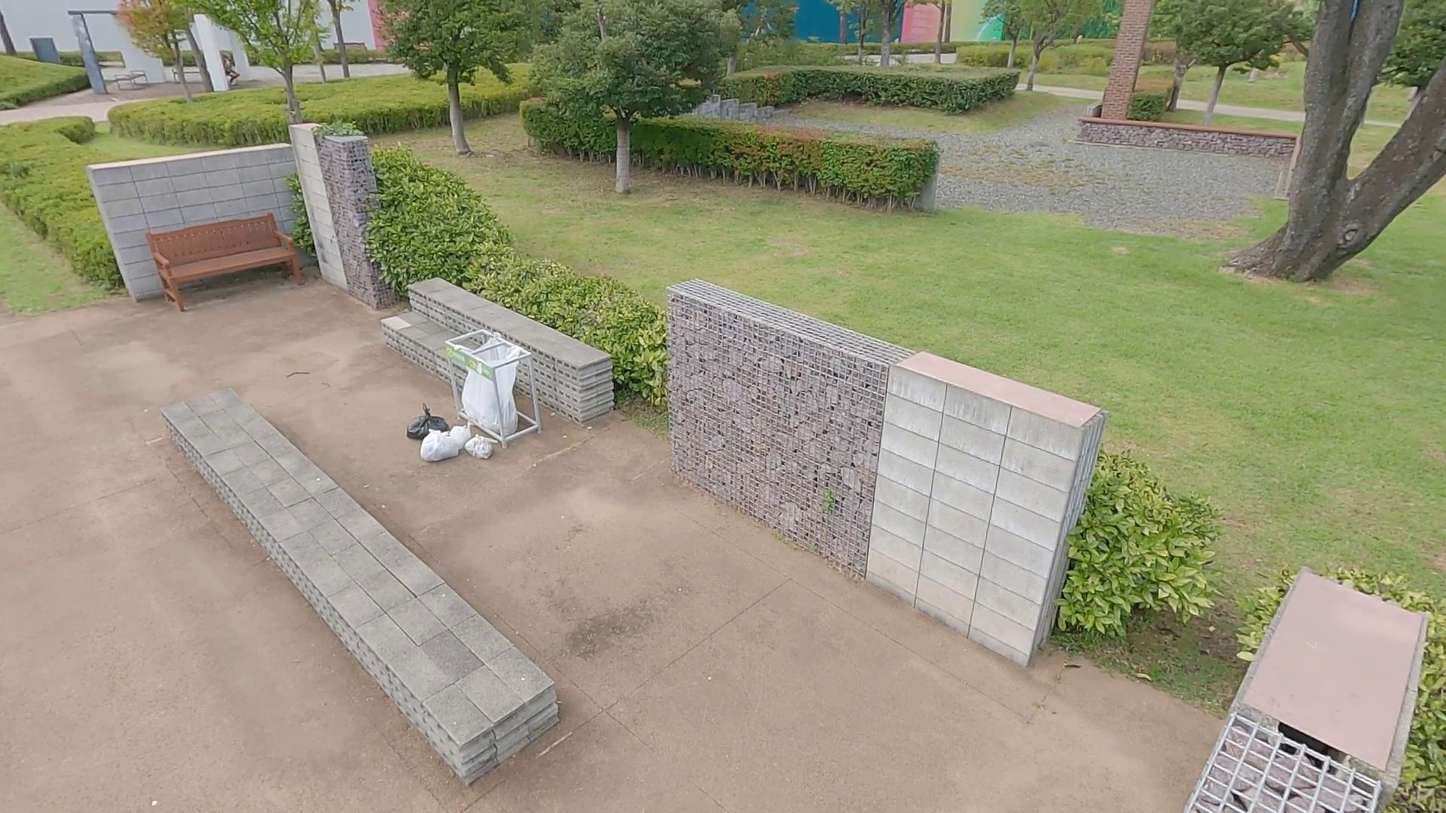trash: (406, 403, 450, 442), (418, 428, 460, 463), (464, 433, 499, 460), (450, 422, 471, 450)
